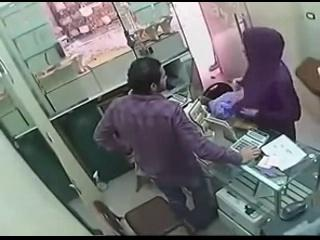Normal: (93, 57, 262, 230), (234, 26, 302, 142), (93, 196, 193, 236)
